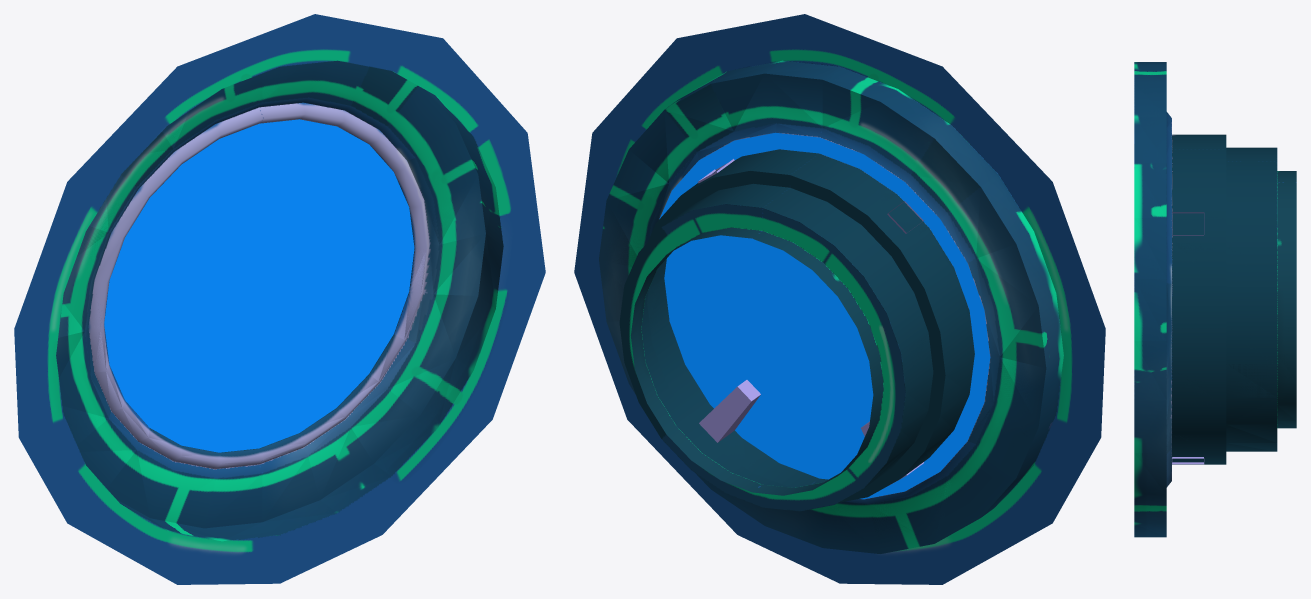
The model's file is Perforated_wall_txt.dae.
3 views of the same model, side by side, from view 1: azimuth 30°, elevation 25°; view 2: azimuth 150°, elevation 25°; view 3: azimuth 270°, elevation 25° (orthographic). The views are drawn at different scales.
Visible parts, largest first — view 1: Object001, Object002, Round_corridor_cyberpunk_Traps_v3, Round_corridor_cyberpunk_Traps_v3.001; view 2: Object001, Round_corridor_cyberpunk_Traps_v3, Object002, Round_corridor_cyberpunk_Traps_v3.001; view 3: Round_corridor_cyberpunk_Traps_v3, Object001, Round_corridor_cyberpunk_Traps_v3.001.
Boxes of the visible parts, box(x1,y1,x2,y2) form: Object001: box(14, 15, 545, 584); Object002: box(104, 119, 414, 452); Round_corridor_cyberpunk_Traps_v3: box(14, 14, 540, 521); Round_corridor_cyberpunk_Traps_v3.001: box(89, 145, 428, 469); Object001: box(574, 14, 1105, 584); Round_corridor_cyberpunk_Traps_v3: box(574, 65, 1097, 584); Object002: box(659, 132, 990, 499); Round_corridor_cyberpunk_Traps_v3.001: box(619, 155, 974, 487); Round_corridor_cyberpunk_Traps_v3: box(1134, 62, 1296, 537); Object001: box(1134, 62, 1171, 537); Round_corridor_cyberpunk_Traps_v3.001: box(1172, 144, 1296, 463).
Size of the model in its own units: 16.9 by 4.85 by 17.04.
Materials: 2 (1 with a texture image).
